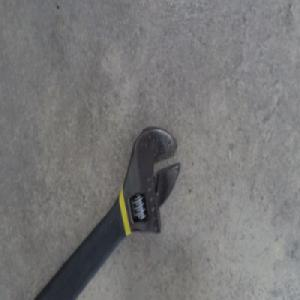AdjustableWrench: (35, 125, 182, 299)
